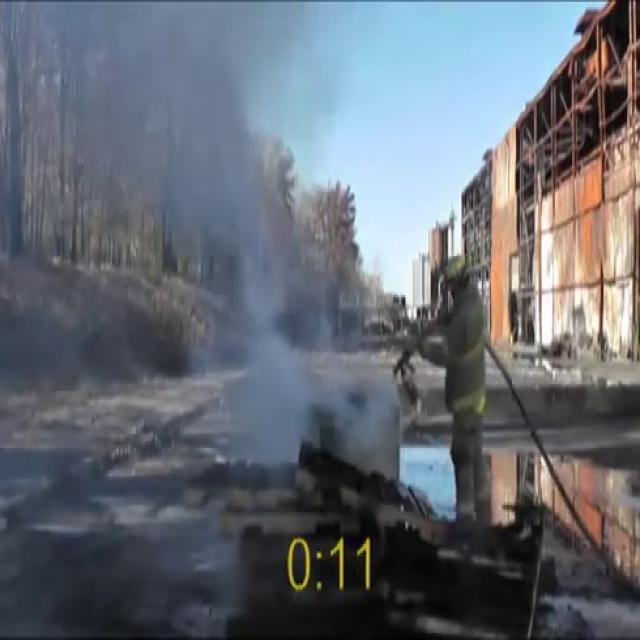Smoke: (6, 1, 416, 465)
